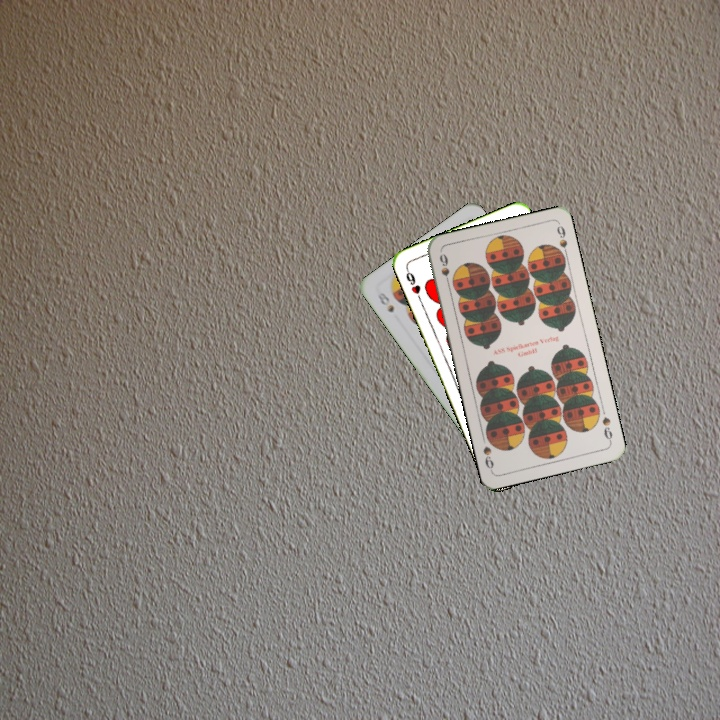H9: (402, 264, 424, 303)
S8: (373, 289, 397, 315)
S9: (435, 250, 453, 289), (598, 413, 615, 445)
